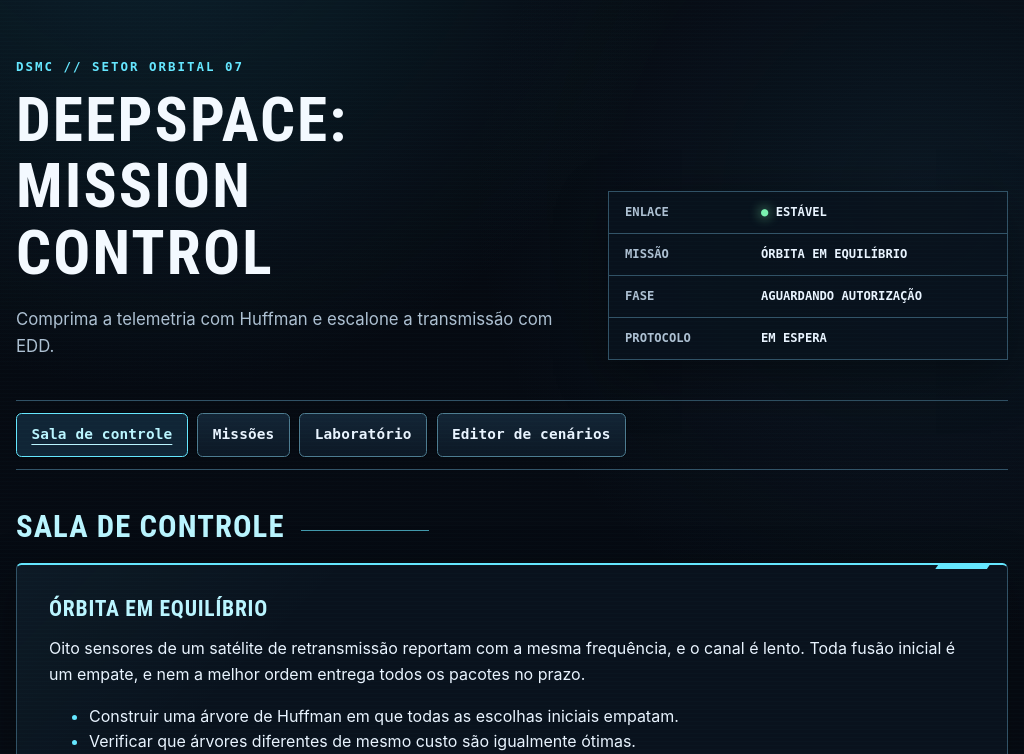
Test: progresso salvo localmente › apaga o progresso da campanha somente após confirmação e mantém os cenários importados
Click the button "Missões": (244,435) [197,413,290,457]
(page scrolled)
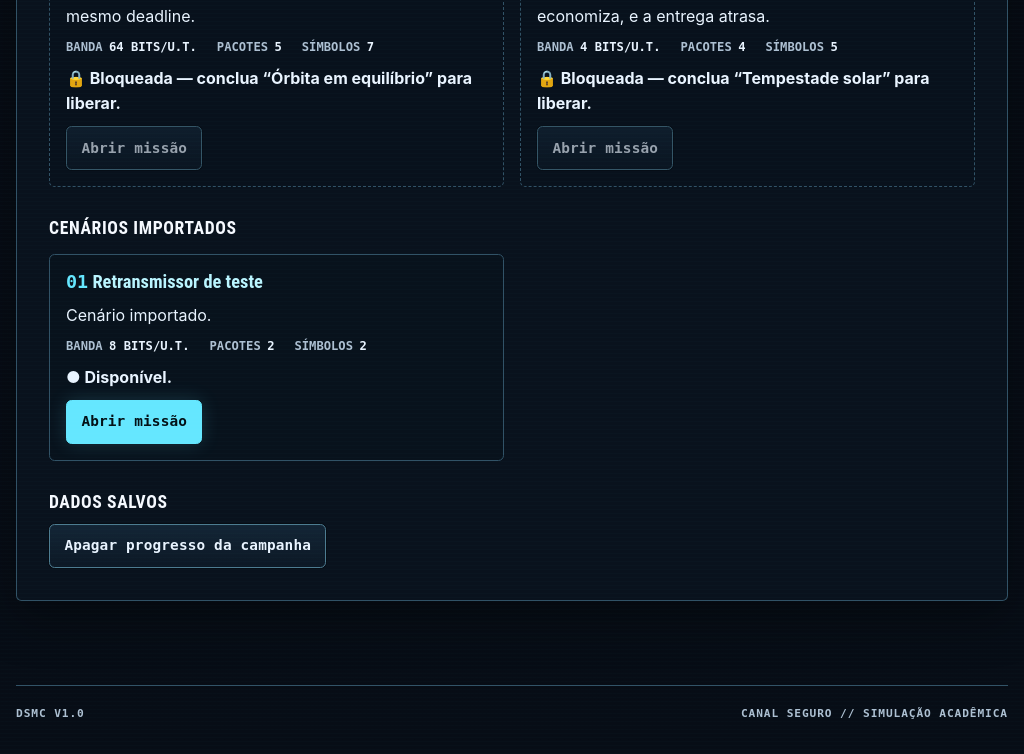
Click the button "Apagar progresso da campanha": (188,546) [49,524,326,568]
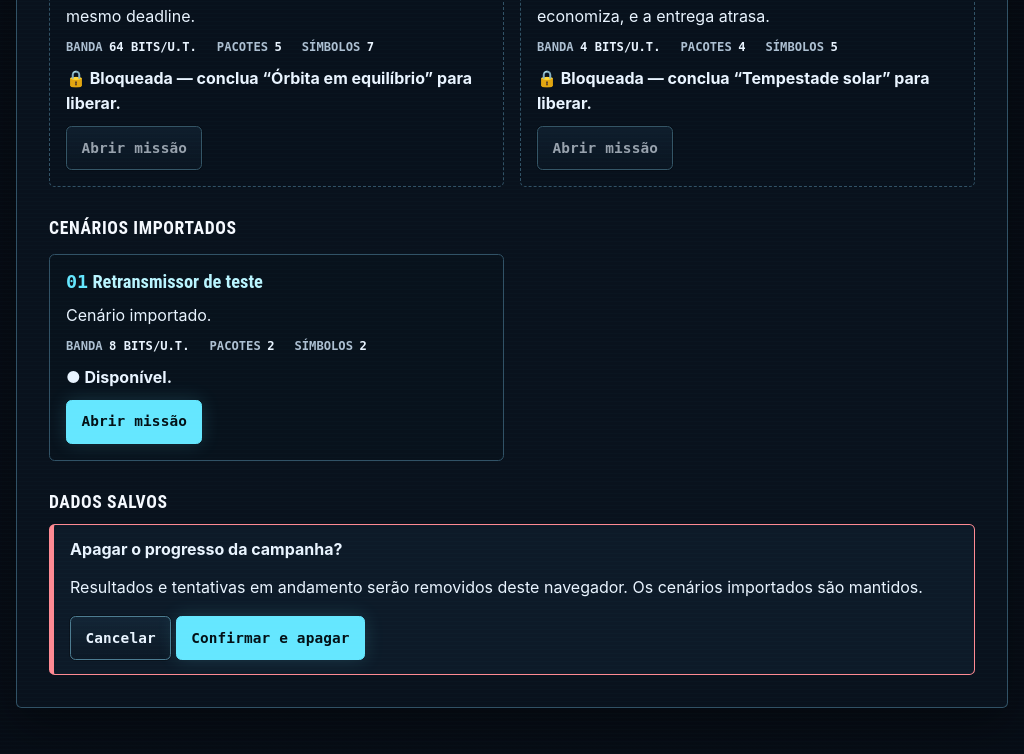
Click the button "Cancelar": (121,638) [70,616,171,660]
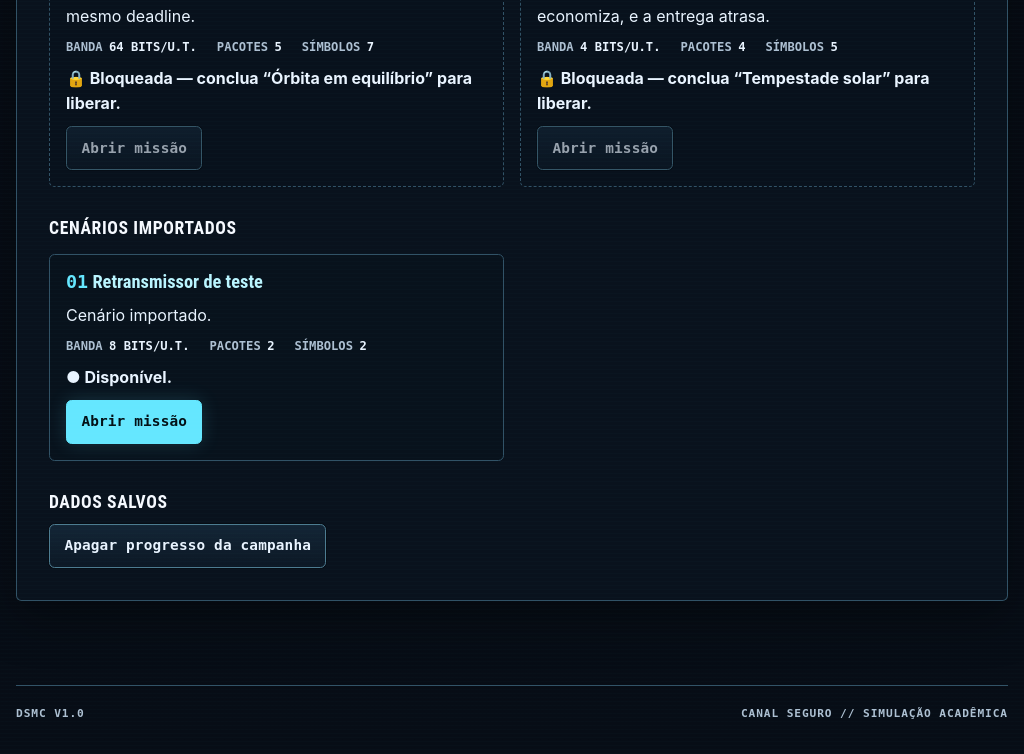
Click the button "Apagar progresso da campanha": (188,546) [49,524,326,568]
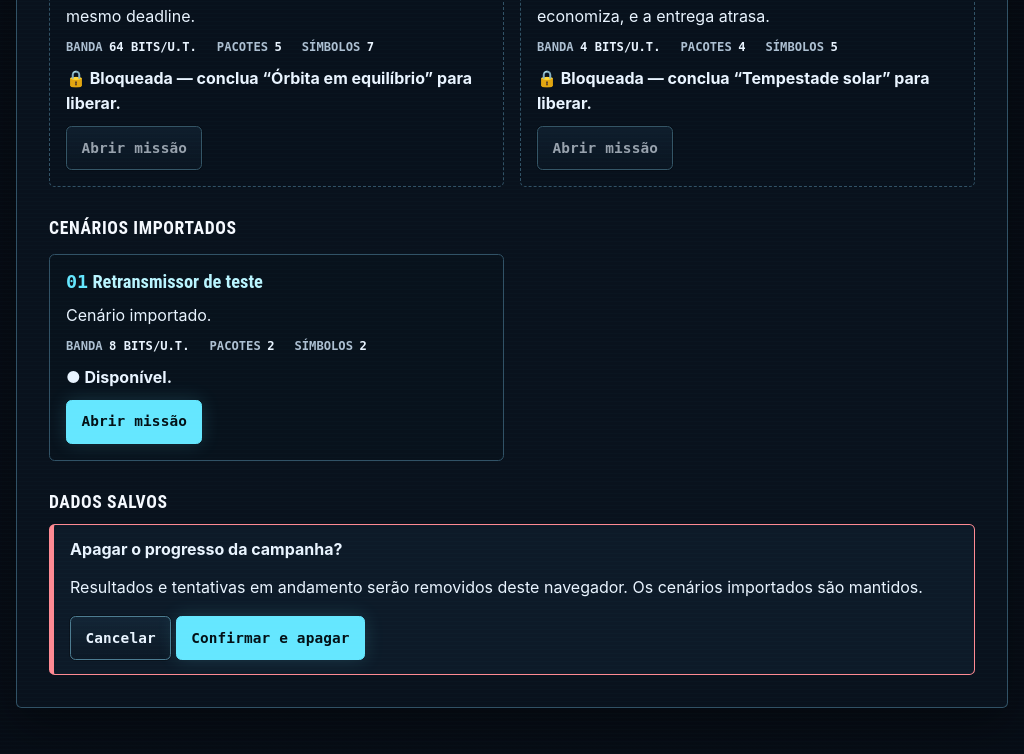
Click the button "Confirmar e apagar": (270,638) [176,616,365,660]
(page scrolled)
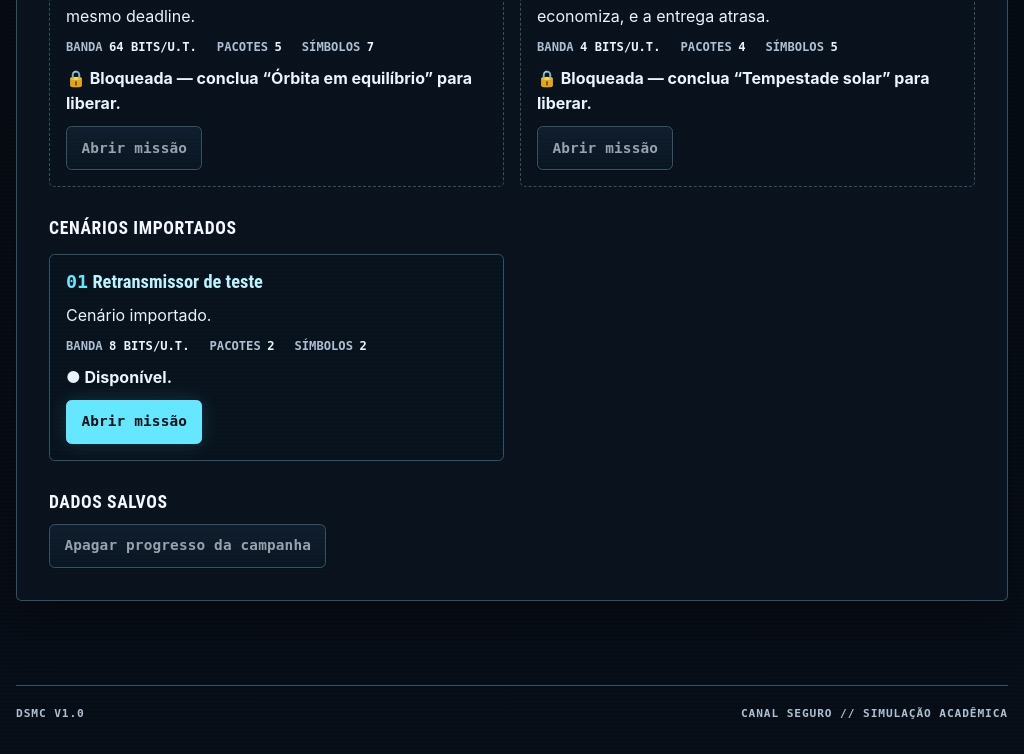
Expected: the button "Apagar progresso da campanha" is disabled, [49,524,326,568]
